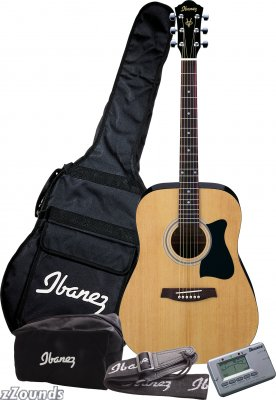guitar: (116, 1, 260, 362)
